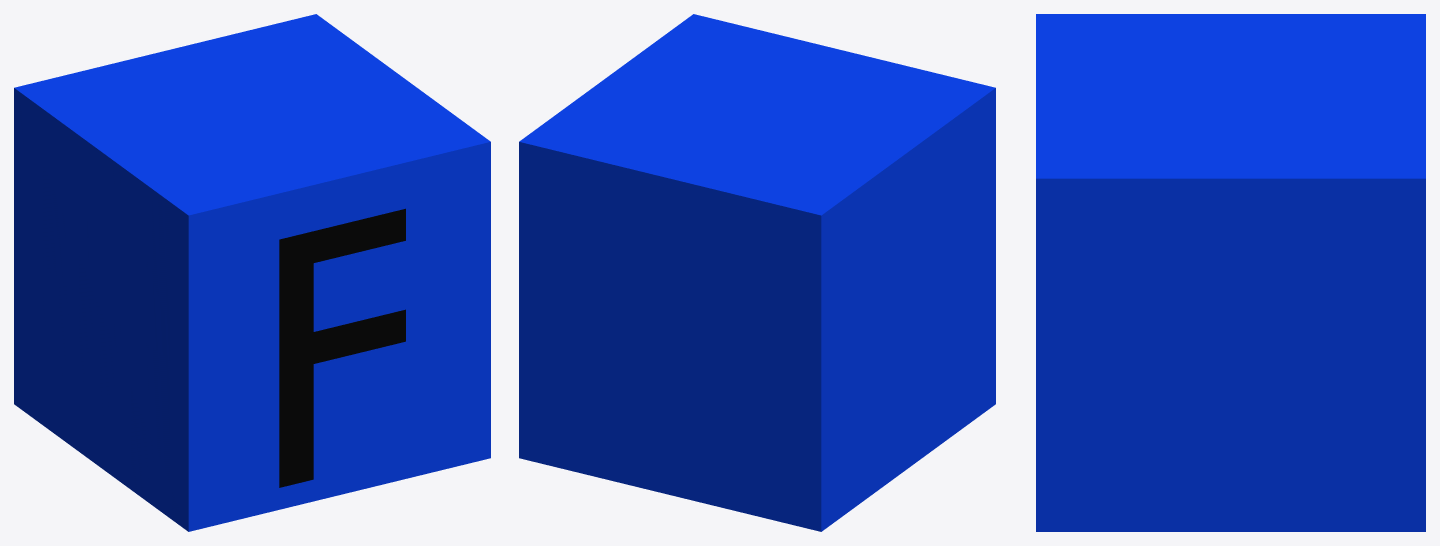
Rendered from Tegel6.gltf.
The picture shows the model from 3 angles, left to right: view 1: azimuth 30°, elevation 25°; view 2: azimuth 150°, elevation 25°; view 3: azimuth 270°, elevation 25°; orthographic projection. The views are drawn at different scales.
Visible parts, largest first — view 1: Cube.010, Text.010; view 2: Cube.010; view 3: Cube.010.
Boxes of the visible parts, <box> form: Cube.010: <box>14,14,490,531</box>; Text.010: <box>279,208,405,487</box>; Cube.010: <box>519,14,995,531</box>; Cube.010: <box>1036,14,1425,531</box>.
Size of the model in its own units: 0.2 by 0.2 by 0.2061.
